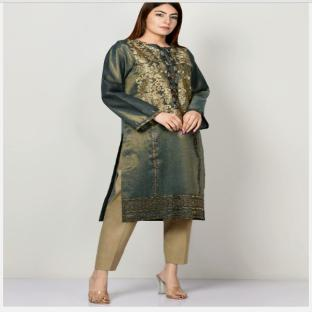Human: (89, 2, 209, 303)
